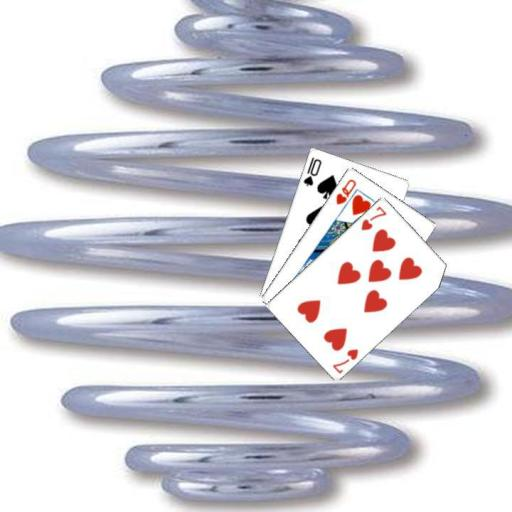10S: (300, 154, 323, 188)
7H: (329, 345, 360, 375), (358, 203, 388, 232)
QH: (333, 176, 358, 206)
